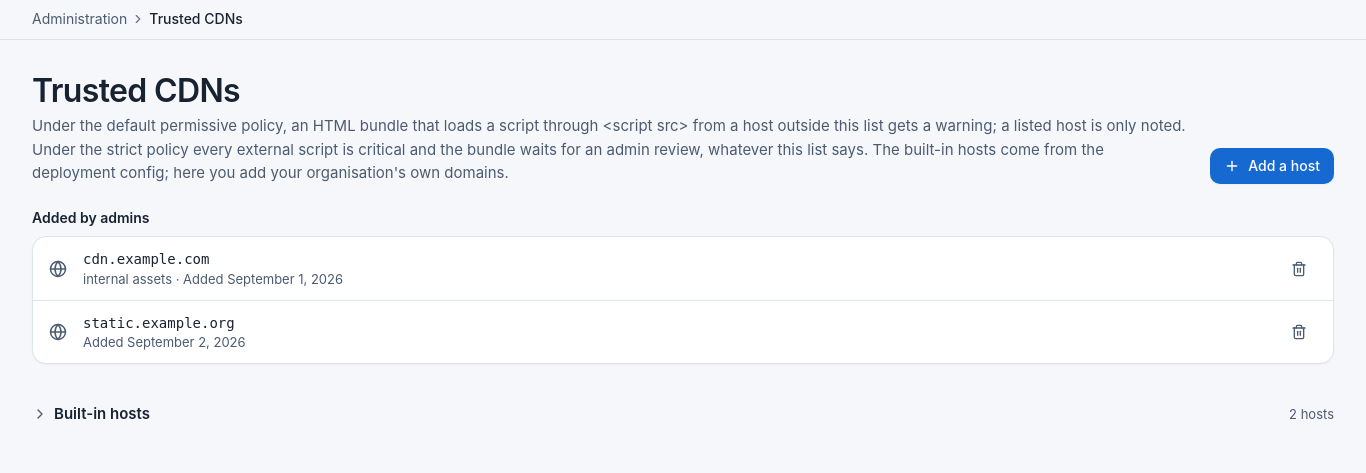
it: AdminCdn › shows a remove error
The width and height of the screenshot is (1366, 473).
Expected: the text "cdn.example.com" is shown, [83,251,209,267]
Step 1. Click the button named "Remove cdn.example.com" → (1299, 269), box [1281,251,1317,287]
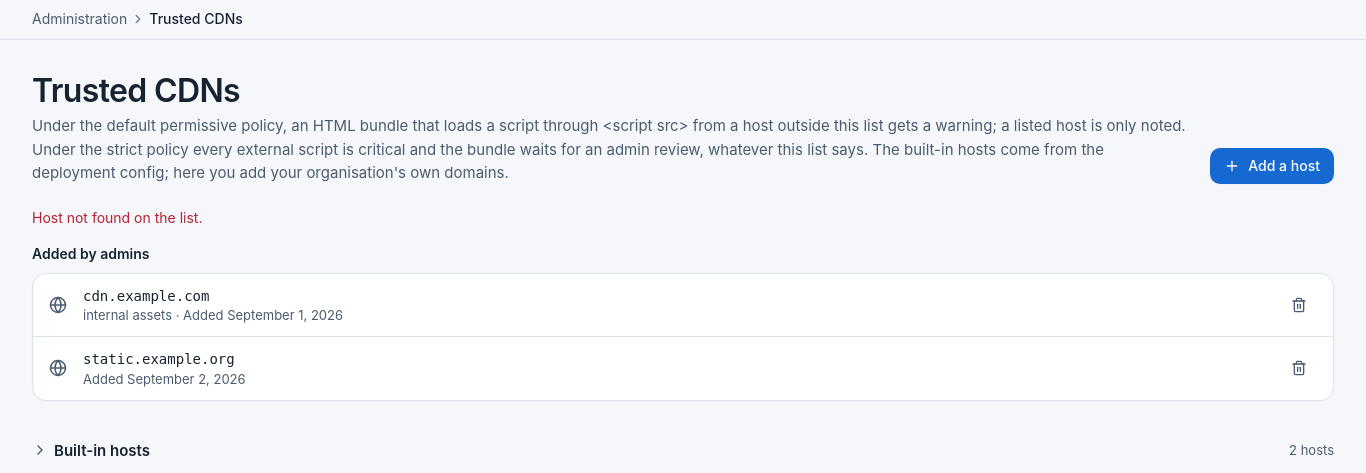
Expected: the text "Host not found on the list." is shown, [32,209,202,226]
